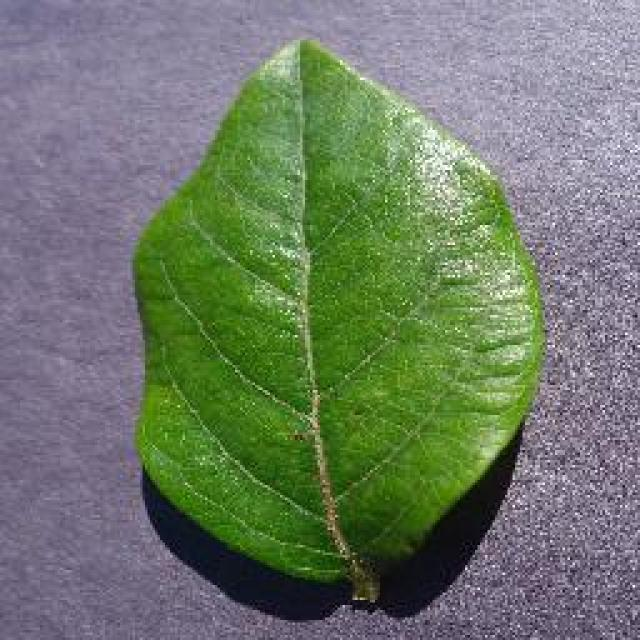Blu_healthy: (164, 112, 498, 514)
